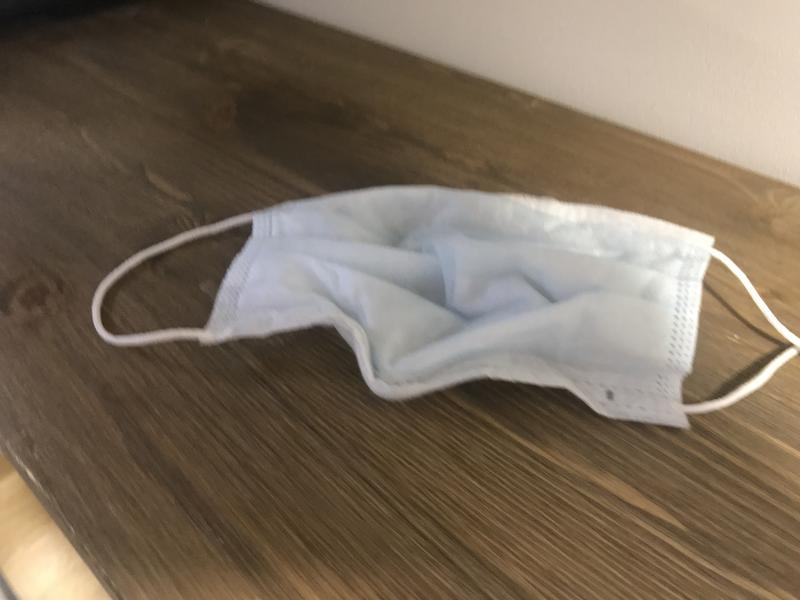medical_mask: (91, 182, 800, 427)
